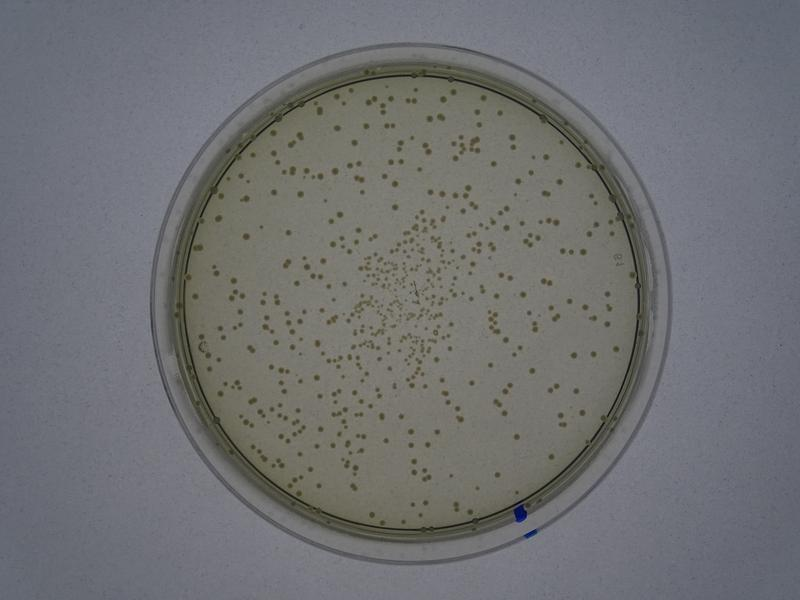colony: (541, 451, 556, 462), (511, 432, 524, 444), (484, 359, 494, 374), (269, 186, 281, 198), (328, 123, 342, 133), (282, 227, 293, 237), (488, 159, 499, 169), (395, 411, 407, 420), (350, 138, 361, 147), (579, 245, 588, 256), (555, 177, 567, 185), (240, 231, 249, 241), (296, 188, 304, 199), (391, 203, 401, 211), (467, 379, 475, 389), (319, 256, 328, 264), (336, 210, 344, 218)
